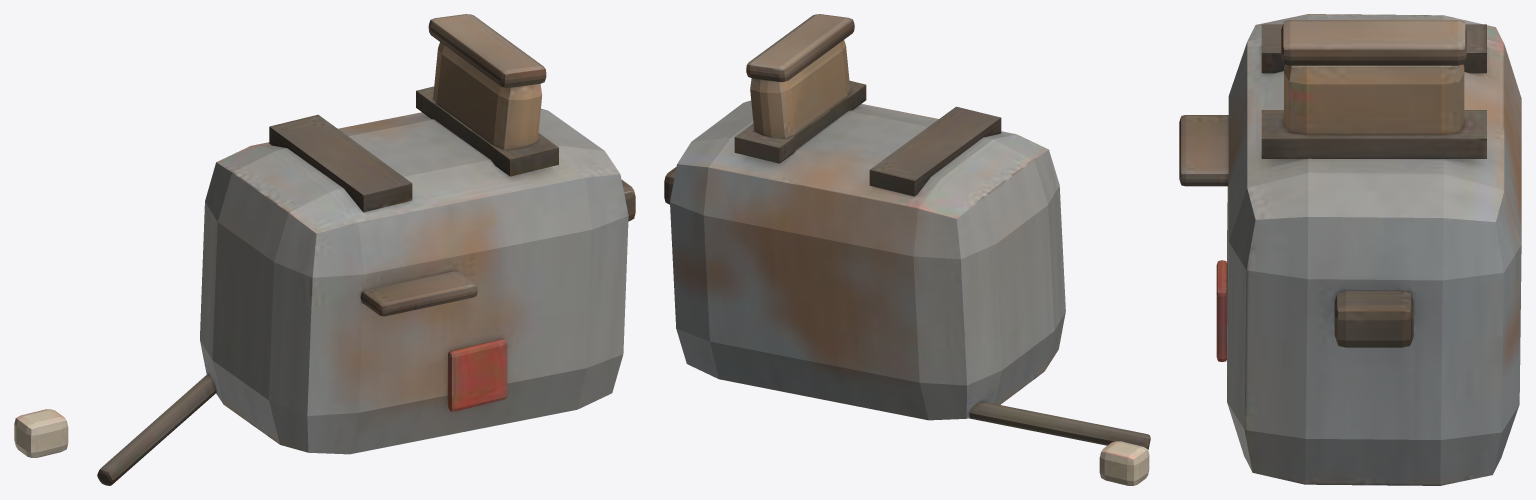
The model's file is device_broken_toaster.glb.
The picture shows the model from 3 angles, left to right: view 1: azimuth 30°, elevation 25°; view 2: azimuth 150°, elevation 25°; view 3: azimuth 270°, elevation 25°; orthographic projection. The views are drawn at different scales.
Parts seen in each view (by area): view 1: BrokenToaster_Mesh; view 2: BrokenToaster_Mesh; view 3: BrokenToaster_Mesh.
Boxes of the visible parts, <box> form: BrokenToaster_Mesh: <box>14,14,635,485</box>; BrokenToaster_Mesh: <box>664,14,1150,485</box>; BrokenToaster_Mesh: <box>1179,14,1521,485</box>.
Size of the model in its own units: 0.68 by 0.4155 by 0.3038.
1 material, 1 textured.
